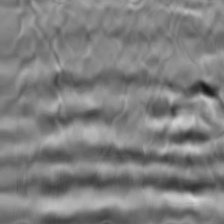Utility: (170, 78, 224, 117)
